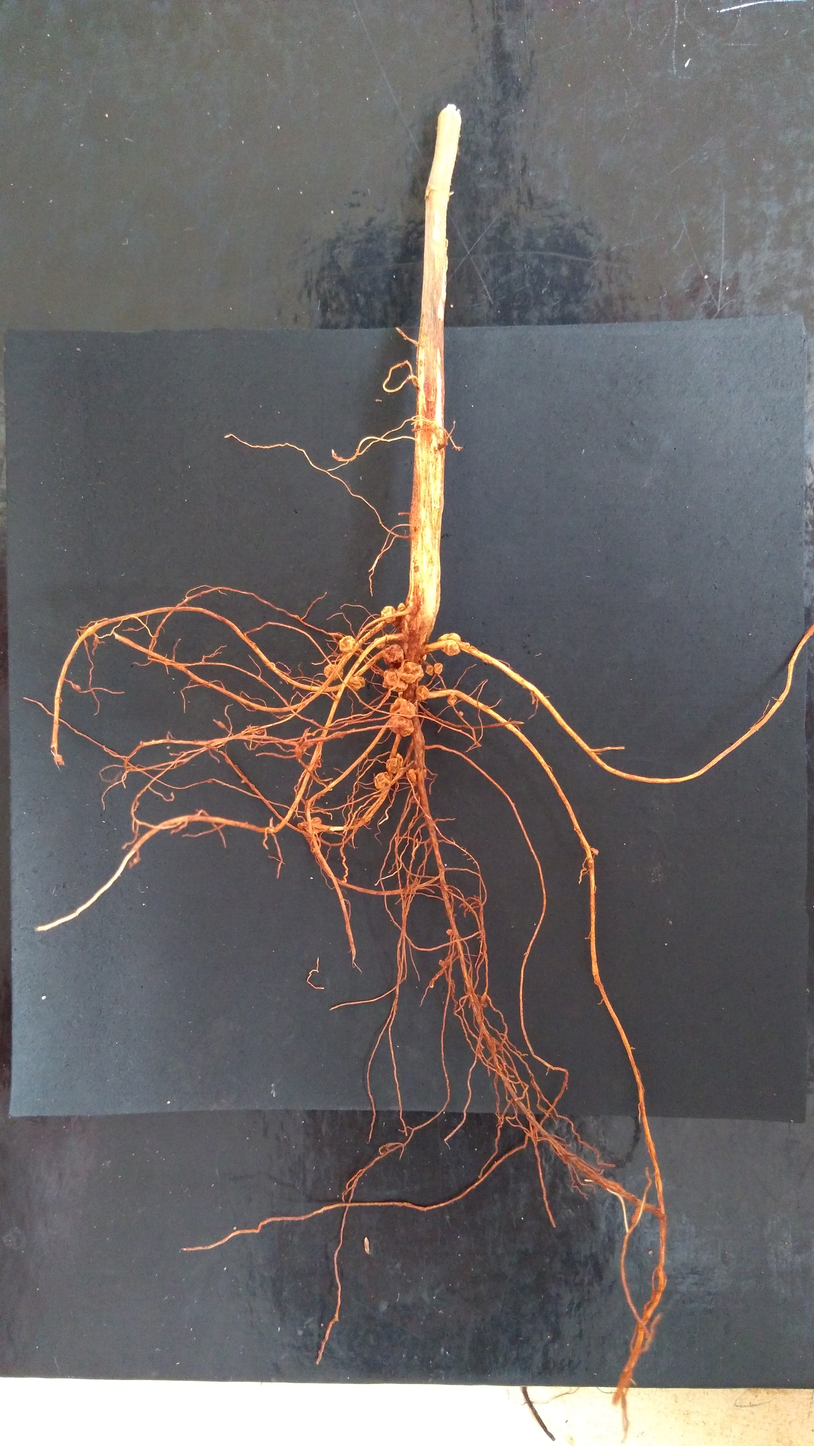nodule: (382, 668, 408, 692), (396, 662, 424, 684), (388, 715, 414, 737), (389, 697, 415, 718), (438, 633, 461, 656), (382, 644, 404, 665), (385, 753, 403, 774), (374, 772, 391, 794), (416, 608, 434, 627), (304, 817, 322, 835), (324, 664, 343, 681), (408, 768, 426, 784), (339, 636, 355, 653), (381, 606, 396, 623), (348, 676, 365, 691), (414, 685, 429, 701), (397, 620, 408, 634), (391, 611, 400, 627), (374, 637, 385, 649), (53, 754, 64, 765), (397, 603, 405, 618), (447, 695, 457, 705), (434, 663, 443, 674), (425, 665, 434, 676), (401, 642, 408, 655), (590, 847, 599, 856), (419, 654, 426, 665), (401, 614, 410, 622), (299, 745, 307, 752), (443, 884, 449, 891), (446, 929, 452, 936), (439, 959, 445, 966), (74, 685, 81, 691), (588, 859, 594, 864), (459, 711, 463, 717)
